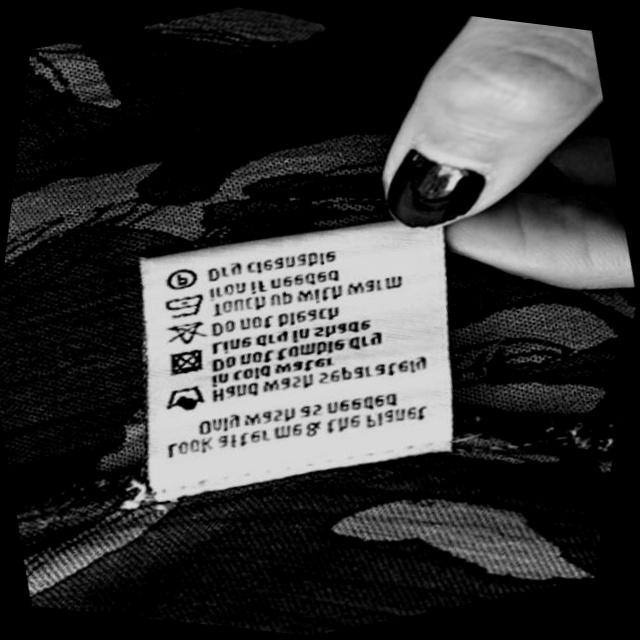DN_bleach: (170, 315, 209, 349)
DN_tumble_dry: (167, 342, 206, 377)
dry_clean_any_solvent_except_trichloroethylene: (166, 262, 204, 291)
hand_wash: (164, 380, 208, 416)
iron_low: (164, 289, 209, 326)
